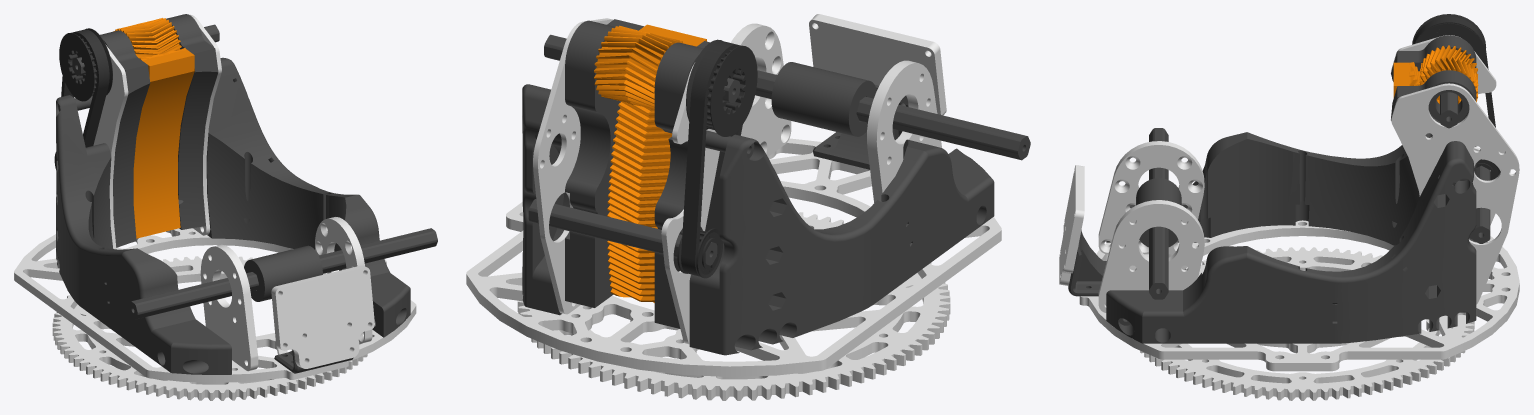
3 renders of one model, left to right at view 1: azimuth 30°, elevation 25°; view 2: azimuth 150°, elevation 25°; view 3: azimuth 270°, elevation 25°, orthographic. The views are drawn at different scales.
Visible parts, largest first — view 1: Left Wall, Right Wall, Part 3, Part 22, Helical 1.2700000000000002M 324T, Spur 2.5400000000000005M 92T, Right Hood Guide, Left Hood Guide, Part 9, 1/2" Rounded Hex (REV) (10.023 in), Part 21, Part 12 (+7 smaller); view 2: Left Wall, Part 3, Spur 2.5400000000000005M 92T, Right Hood Guide, Helical 1.2700000000000002M 324T, Part 22, Part 11, Left Hood Guide, Part 21, Part 9, 60t 5mm Belt, Right Wall (+9 smaller); view 3: Right Wall, Left Wall, Part 3, Spur 2.5400000000000005M 92T, Part 11, Part 8, Part 9, Part 22, 1/2" Rounded Hex (REV) (10.023 in), Right Hood Guide, Part 23, Helical 1.2700000000000002M 30T (+8 smaller).
Part boxes in pixels (x1,y1,x2,y2): Left Wall: (56, 95, 231, 374); Right Wall: (206, 57, 410, 337); Part 3: (14, 228, 416, 382); Part 22: (271, 265, 374, 368); Helical 1.2700000000000002M 324T: (133, 48, 194, 238); Spur 2.5400000000000005M 92T: (52, 256, 367, 400); Right Hood Guide: (166, 14, 218, 229); Left Hood Guide: (100, 30, 150, 247); Part 9: (200, 244, 258, 371); 1/2" Rounded Hex (REV) (10.023 in): (128, 228, 437, 319); Part 21: (244, 245, 322, 301); Part 12: (93, 45, 128, 249); Left Wall: (689, 134, 994, 355); Part 3: (466, 138, 1001, 376); Spur 2.5400000000000005M 92T: (517, 212, 950, 400); Right Hood Guide: (565, 19, 643, 307); Helical 1.2700000000000002M 324T: (607, 24, 706, 302); Part 22: (809, 14, 946, 115); Part 11: (533, 18, 612, 314); Left Hood Guide: (654, 41, 709, 328); Part 21: (771, 62, 876, 136); Part 9: (867, 60, 941, 202); 60t 5mm Belt: (681, 41, 742, 276); Right Wall: (522, 84, 569, 315); Right Wall: (1106, 141, 1476, 343); Left Wall: (1106, 132, 1476, 245); Part 3: (1079, 220, 1519, 371); Spur 2.5400000000000005M 92T: (1140, 247, 1474, 400); Part 11: (1391, 83, 1519, 304); Part 8: (1098, 200, 1204, 312); Part 9: (1098, 141, 1204, 254); Part 22: (1059, 165, 1084, 285); 1/2" Rounded Hex (REV) (10.023 in): (1149, 128, 1168, 299); Right Hood Guide: (1391, 70, 1476, 242); Part 23: (1068, 230, 1106, 296); Helical 1.2700000000000002M 30T: (1419, 45, 1478, 103).
Size of the model in its own units: 0.2606 by 0.2133 by 0.3196.
